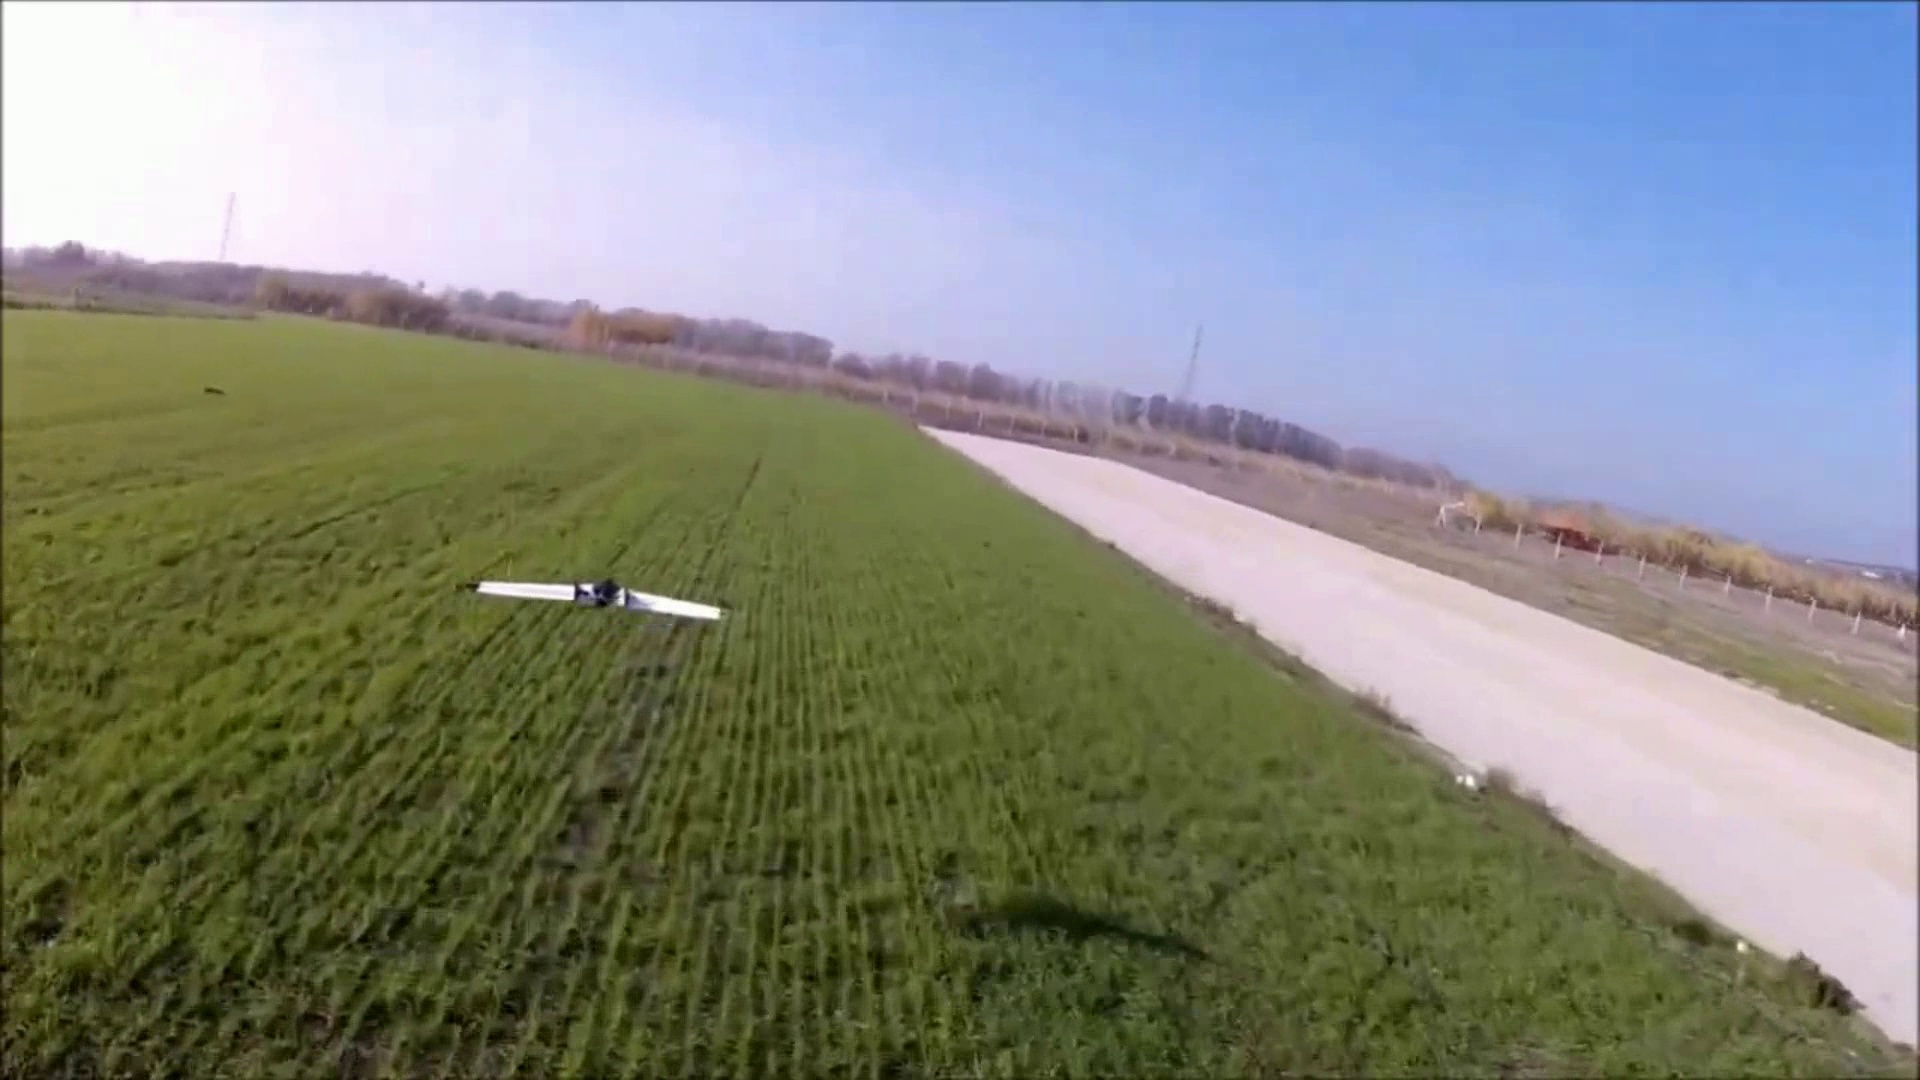airplane: (475, 576, 723, 626)
